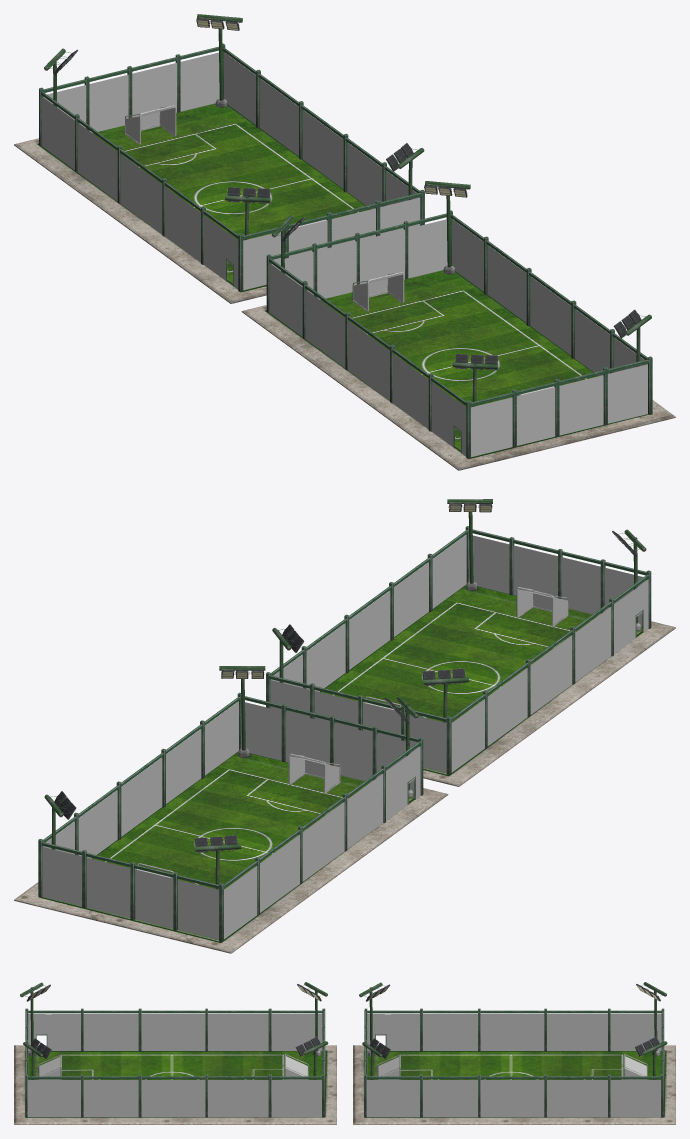
The model's file is SanBong_dtu.fbx.
3 renders of one model, top to bottom at view 1: azimuth 30°, elevation 25°; view 2: azimuth 150°, elevation 25°; view 3: azimuth 270°, elevation 25°, orthographic. The views are drawn at different scales.
Parts seen in each view (by area): view 1: SanBong3, SanBong4; view 2: SanBong4, SanBong3; view 3: SanBong3, SanBong4.
Part boxes in pixels (<box>): SanBong3: <box>241,181,675,470</box>; SanBong4: <box>14,14,424,303</box>; SanBong4: <box>14,666,448,953</box>; SanBong3: <box>266,499,675,786</box>; SanBong3: <box>14,982,336,1124</box>; SanBong4: <box>353,982,675,1124</box>.
Size of the model in its own units: 1562 by 662 by 5535.
